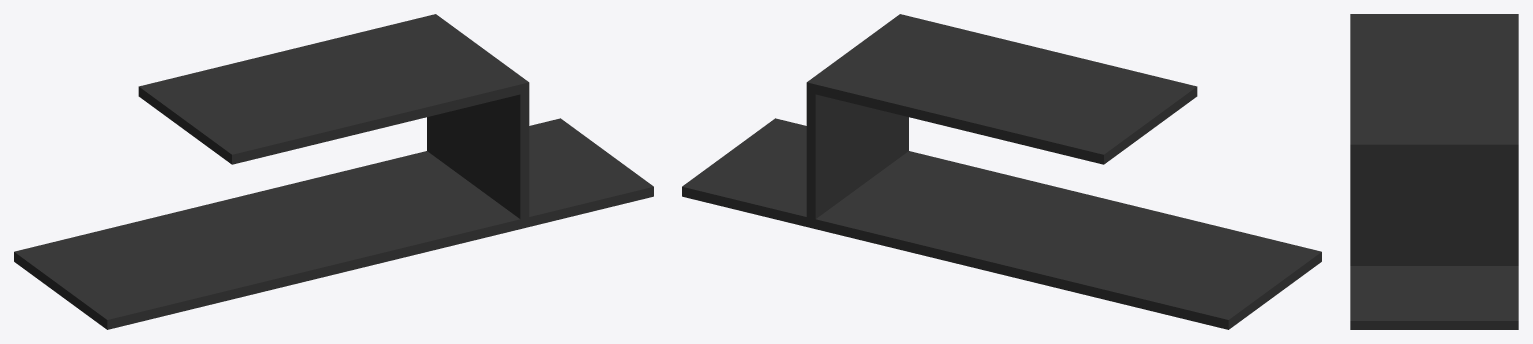
File: Wall_Shelf_4.obj
3 renders of one model, left to right at view 1: azimuth 30°, elevation 25°; view 2: azimuth 150°, elevation 25°; view 3: azimuth 270°, elevation 25°, orthographic. The views are drawn at different scales.
Visible parts, largest first — view 1: Wall_Shelf_4; view 2: Wall_Shelf_4; view 3: Wall_Shelf_4.
Boxes of the visible parts, bbox=[...] form: Wall_Shelf_4: bbox=[14, 14, 653, 329]; Wall_Shelf_4: bbox=[682, 14, 1321, 329]; Wall_Shelf_4: bbox=[1350, 14, 1518, 329].
Bounding box in the file's own units: 1.43 × 0.3629 × 0.4243.
